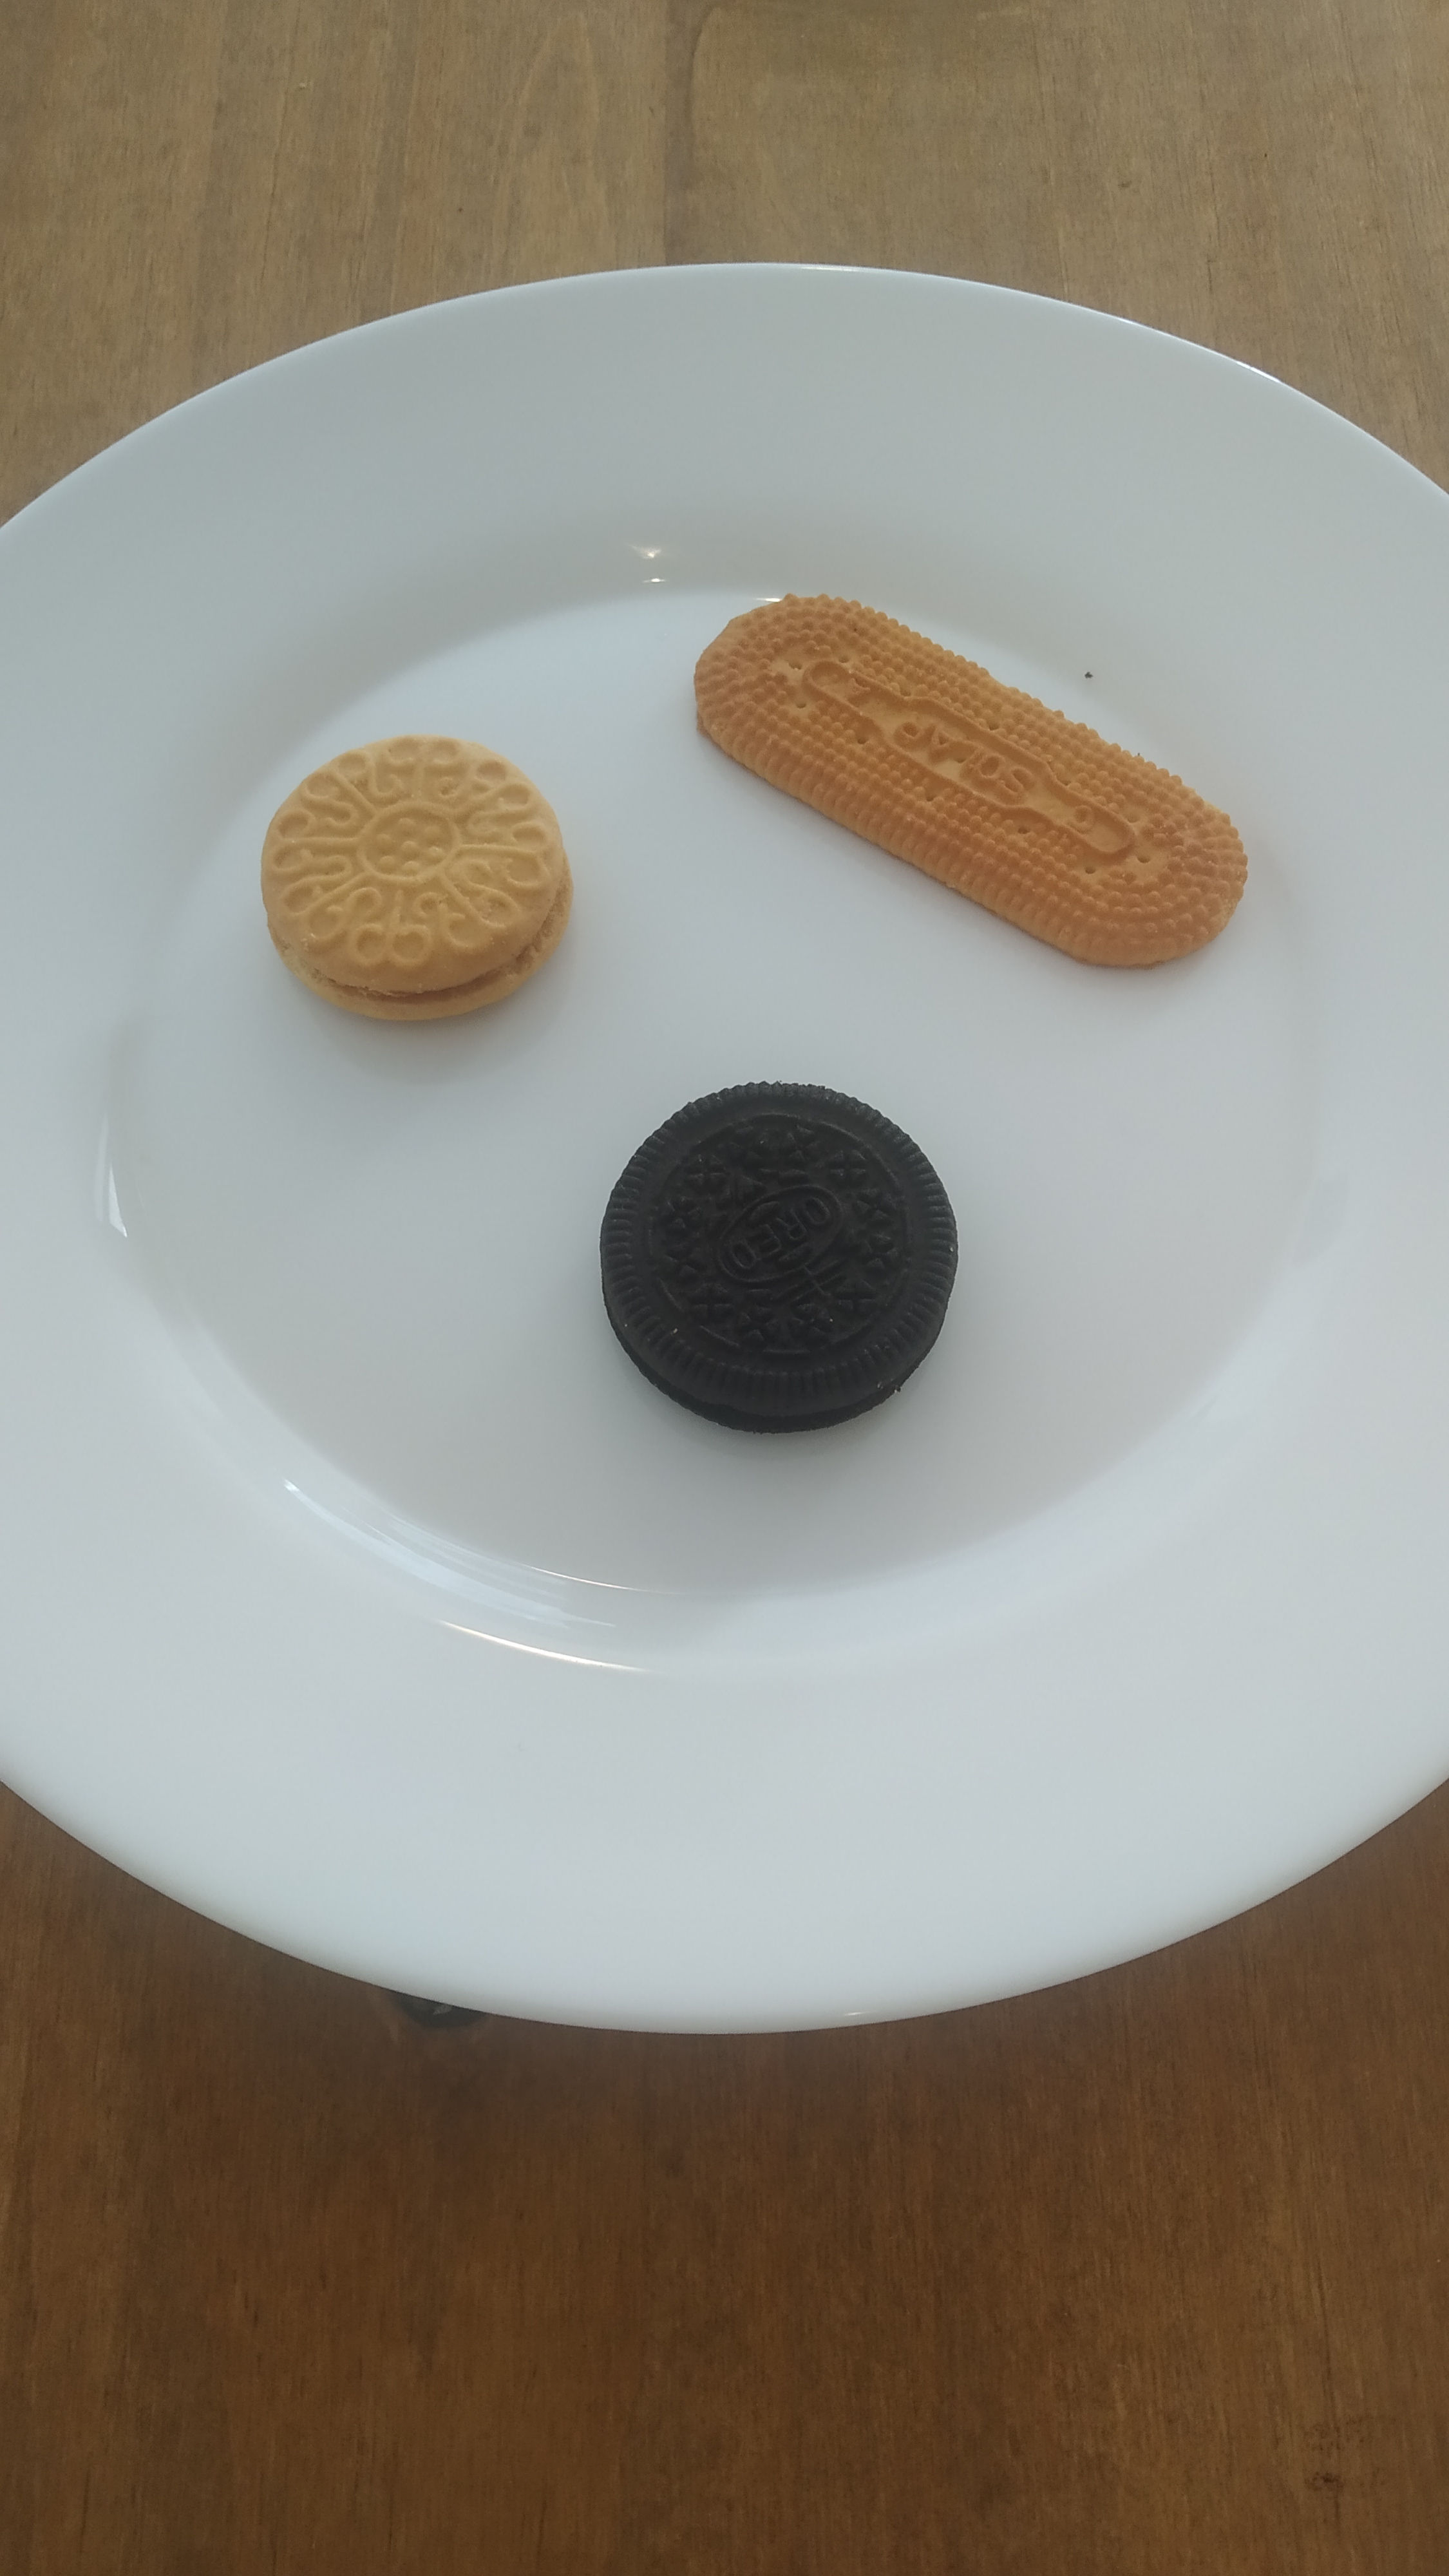lulu: (262, 734, 573, 1023)
oreo: (600, 1079, 959, 1435)
solar: (690, 593, 1249, 970)
